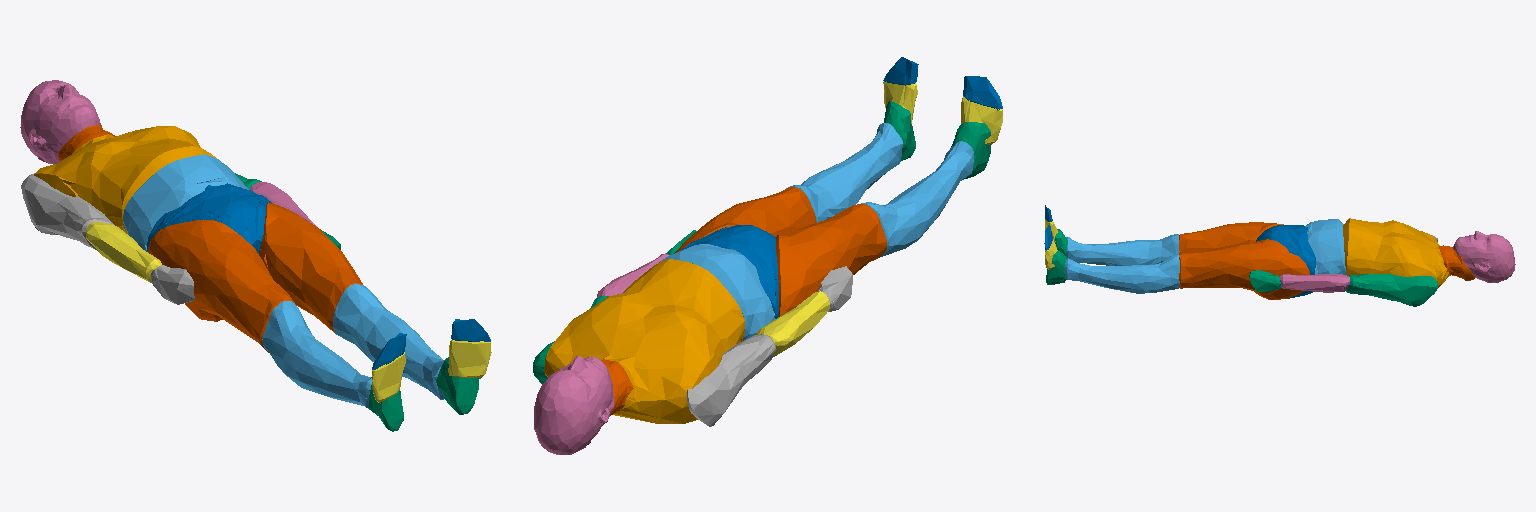
--- What the picture shows (computed from the rendered views, not written in the file) ---
Views: 3 orthographic renders of the robot side by side, from view 1: azimuth 30°, elevation 25°; view 2: azimuth 150°, elevation 25°; view 3: azimuth 270°, elevation 25°.
Model human adult with 45 links and 44 joints (27 revolute, 17 fixed), rooted at chest, posed all joints at 0.
Visible links, largest first — view 1: right_leg, chest, left_leg, right_shin, left_shin, belly, head, pelvis, right_arm, right_forearm, left_sole, left_foot (+7 smaller); view 2: chest, right_leg, head, right_shin, left_shin, right_arm, belly, left_leg, pelvis, right_forearm, right_foot, right_hand (+7 smaller); view 3: chest, left_leg, left_shin, right_shin, head, left_arm, right_leg, belly, pelvis, left_forearm, neck, left_hand.
Boxes of the visible links, bbox=[...] form: right_leg: bbox=[148, 220, 296, 352]; chest: bbox=[34, 126, 218, 234]; left_leg: bbox=[259, 202, 362, 333]; right_shin: bbox=[262, 301, 371, 409]; left_shin: bbox=[333, 283, 445, 399]; belly: bbox=[123, 154, 248, 251]; head: bbox=[20, 80, 100, 163]; pelvis: bbox=[147, 181, 271, 253]; right_arm: bbox=[21, 173, 113, 250]; right_forearm: bbox=[86, 222, 161, 282]; left_sole: bbox=[448, 340, 491, 378]; left_foot: bbox=[436, 357, 479, 414]; chest: bbox=[544, 259, 744, 423]; right_leg: bbox=[776, 204, 887, 316]; head: bbox=[534, 356, 613, 454]; right_shin: bbox=[861, 141, 973, 256]; left_shin: bbox=[786, 123, 902, 222]; right_arm: bbox=[687, 334, 775, 426]; belly: bbox=[660, 244, 774, 340]; left_leg: bbox=[674, 187, 816, 253]; pelvis: bbox=[681, 225, 778, 318]; right_forearm: bbox=[756, 291, 829, 356]; right_foot: bbox=[951, 122, 990, 179]; right_hand: bbox=[817, 266, 852, 311]; chest: bbox=[1343, 218, 1449, 287]; left_leg: bbox=[1179, 239, 1310, 299]; left_shin: bbox=[1064, 254, 1179, 293]; right_shin: bbox=[1066, 234, 1179, 265]; head: bbox=[1453, 231, 1515, 282]; left_arm: bbox=[1346, 274, 1437, 306]; right_leg: bbox=[1179, 222, 1283, 253]; belly: bbox=[1305, 219, 1345, 274]; pelvis: bbox=[1256, 225, 1315, 298]; left_forearm: bbox=[1280, 274, 1349, 292]; neck: bbox=[1439, 245, 1474, 280]; left_hand: bbox=[1249, 270, 1281, 291].
Size in the robot's own frame: 0.4867 by 1.74 by 0.3008 metres.
Meshes: 21 distinct files referenced, 21 mesh visuals loaded (21 OBJ).

robot.urdf — human adult:
<?xml version="1.0"?>

<!-- This implements the reference model from
https://mmm.humanoids.kit.edu/referencemodel.html
with a height of H = 1.75. This model is based on the one from
"Biomechanics and motor control of human movement", David A. Winter

The segment mass data (only mass) is calculated using the table 4.1 from this book for
a total body mass of 68 kg.

This model's additional details (feet), which are implemented here, are given in
Terlemez, Ö., Ulbrich, S., Mandery, C., Do, M., Vahrenkamp, N., & Asfour, T. (2014, November). Master Motor Map (MMM)—Framework and toolkit for capturing, representing, and reproducing human motion on humanoid robots. In 2014 IEEE-RAS International Conference on Humanoid Robots (pp. 894-901). IEEE.

IMPORTANT NOTE: THE INERTIAL PROPERTIES ARE NOT CORRECT (PARTICULARLY THE ORIGINS)
-->

<!-- 
Link to range of motion reference:
https://www.wikem.org/wiki/Range_of_motion_by_joint
via
https://www.physio-pedia.com/Range_of_Motion
-->

<robot name="human adult">

  <link name="chest">
    <inertial>
      <origin rpy = "0 0 0" xyz = "0 0.18375 0" />
      <mass value = "14.688" />
      <inertia ixx = "5.0001" ixy = "0" ixz = "0" iyy = "1.0001" iyz = "0" izz = "5.0001" />
    </inertial>

    <collision>
      <geometry>
        <box size="0.2 0.4 0.1"/>
      </geometry>
      <origin rpy="0 0 0" xyz="0 0.1 0"/>
      <sdf resolution="256"/>
    </collision>
    <visual>
      <geometry>
        <mesh filename="obj/chest.obj" scale="1 1 1"/>
      </geometry>
      <origin rpy="0 0 0" xyz="0 0 0"/>
    </visual>
  </link>

<!-- 
  Downwards from Chest 
  ************************
-->

  <link name="belly">
    <inertial>
      <origin rpy = "0 0 0" xyz = "0 -0.0525 0" />
      <mass value = "9.452" />
      <inertia ixx = "5.0001" ixy = "0" ixz = "0" iyy = "1.0001" iyz = "0" izz = "5.0001" />
    </inertial>
    <visual>
      <geometry>
        <mesh filename="obj/belly.obj" scale="1 1 1"/>
      </geometry>
      <origin rpy="0 0 0" xyz="0 0 0"/>
    </visual>
  </link>

  <link name="bellyY">
    <inertial>
      <origin rpy = "0 0 0" xyz = "0 0 0" />
      <mass value = "0.001" />
      <inertia ixx="0.000001" ixy="0.0" ixz="0.0" iyy="0.000001" iyz="0.0" izz="0.000001"/>
    </inertial>
  </link>
  <link name="bellyZ">
    <inertial>
      <origin rpy = "0 0 0" xyz = "0 0 0" />
      <mass value = "0.001" />
      <inertia ixx="0.000001" ixy="0.0" ixz="0.0" iyy="0.000001" iyz="0.0" izz="0.000001"/>
    </inertial>
  </link>

  <joint name="chest_to_bellyY" type="revolute">
    <parent link="chest"/>
    <child link="bellyY"/>
    <axis xyz="0 1 0"/>
    <limit effort="100.0" lower="-0.52" upper="0.52" velocity="1"/>
    <origin xyz="0 0 0"/>
    <dynamics damping="5.0" friction="10.0"/>
  </joint>

  <joint name="chest_to_bellyZ" type="revolute">
    <parent link="bellyY"/>
    <child link="bellyZ"/>
    <axis xyz="0 0 1"/>
    <limit effort="100.0" lower="-0.44" upper="0.44" velocity="1"/>
    <origin xyz="0 0 0"/>
    <dynamics damping="5.0" friction="10.0"/>
  </joint>

  <joint name="chest_to_belly" type="fixed">
    <parent link="bellyZ"/>
    <child link="belly"/>
  </joint>

  <link name="pelvis">
    <inertial>
      <origin rpy = "0 0 0" xyz = "0 -0.035 0" />
      <mass value = "9.656" />
      <inertia ixx = "5.0001" ixy = "0" ixz = "0" iyy = "1.0001" iyz = "0" izz = "5.0001" />
    </inertial>
    <visual>
      <geometry>
        <mesh filename="obj/pelvis.obj" scale="1 1 1"/>
      </geometry>
      <origin rpy="0 0 0" xyz="0 0 0"/>
    </visual>
    
  </link>

  <joint name="belly_to_pelvis" type="revolute">
    <parent link="belly"/>
    <child link="pelvis"/>
    <axis xyz="1 0 0"/>
    <limit effort="100.0" lower="-0.78" upper="0.44" velocity="1"/>
    <origin xyz="0 -0.105 0"/>
    <dynamics damping="5.0" friction="10.0"/>
  </joint>

  <!--
    Right Leg
    ****
  -->

  <link name="right_leg">
    <inertial>
      <origin rpy = "0 0 0" xyz = "0 -0.214375 0" />
      <mass value = "6.8" />
      <inertia ixx = "5.0001" ixy = "0" ixz = "0" iyy = "1.0001" iyz = "0" izz = "5.0001" />
    </inertial>
    
    <collision>
      <geometry>
        <cylinder length="0.4" radius="0.07"/>
      </geometry>
      <origin rpy="1.57 0 0" xyz="0 -0.2 0"/>
      <sdf resolution="256"/>
    </collision>
    <visual>
      <geometry>
        <mesh filename="obj/leg_right.obj" scale="1 1 1"/>
      </geometry>
      <origin rpy="0 0 0" xyz="0 0 0"/>
    </visual>
  </link>

  <link name="rlegX">
    <inertial>
      <origin rpy = "0 0 0" xyz = "0 0 0" />
      <mass value = "0.001" />
      <inertia ixx="0.000001" ixy="0.0" ixz="0.0" iyy="0.000001" iyz="0.0" izz="0.000001"/>
    </inertial>
  </link>
  <link name="rlegY">
    <inertial>
      <origin rpy = "0 0 0" xyz = "0 0 0" />
      <mass value = "0.001" />
      <inertia ixx="0.000001" ixy="0.0" ixz="0.0" iyy="0.000001" iyz="0.0" izz="0.000001"/>
    </inertial>
  </link>
  <link name="rlegZ">
    <inertial>
      <origin rpy = "0 0 0" xyz = "0 0 0" />
      <mass value = "0.001" />
      <inertia ixx="0.000001" ixy="0.0" ixz="0.0" iyy="0.000001" iyz="0.0" izz="0.000001"/>
    </inertial>
  </link>

  <joint name="pelvis_to_rlegX" type="revolute">
    <parent link="pelvis"/>
    <child link="rlegX"/>
    <axis xyz="1 0 0"/>
    <limit effort="100.0" lower="-1.74" upper="0.52" velocity="1"/>
    <origin xyz="-0.091 -0.07 0"/>
    <dynamics damping="5.0" friction="10.0"/>
  </joint>

  <joint name="pelvis_to_rlegY" type="revolute">
    <parent link="rlegX"/>
    <child link="rlegY"/>
    <axis xyz="0 1 0"/>
    <limit effort="100.0" lower="-0.78" upper="0.78" velocity="1"/>
    <origin xyz="0 0 0"/>
    <dynamics damping="5.0" friction="10.0"/>
  </joint>

  <joint name="pelvis_to_rlegZ" type="revolute">
    <parent link="rlegY"/>
    <child link="rlegZ"/>
    <axis xyz="0 0 1"/>
    <limit effort="100.0" lower="-0.7" upper="0.35" velocity="1"/>
    <origin xyz="0 0 0"/>
    <dynamics damping="5.0" friction="10.0"/>
  </joint>

  <joint name="pelvis_to_right_leg" type="fixed">
    <parent link="rlegZ"/>
    <child link="right_leg"/>
  </joint>

  <link name="right_shin">
    <inertial>
      <origin rpy = "0 0 0" xyz = "0 -0.21525 0" />
      <mass value = "3.162" />
      <inertia ixx = "5.0001" ixy = "0" ixz = "0" iyy = "1.0001" iyz = "0" izz = "5.0001" />
    </inertial>
    
    <collision>
      <geometry>
        <cylinder length="0.4" radius="0.05"/>
      </geometry>
      <origin rpy="1.57 0 0" xyz="0 -0.2 0"/>
      <sdf resolution="256"/>
    </collision>
    <visual>
      <geometry>
        <mesh filename="obj/shin_right.obj" scale="1 1 1"/>
      </geometry>
      <origin rpy="0 0 0" xyz="0 0 0"/>
    </visual>
  </link>

  <joint name="right_leg_to_right_shin" type="revolute">
    <parent link="right_leg"/>
    <child link="right_shin"/>
    <axis xyz="1 0 0"/>
    <limit effort="100.0" lower="0" upper="2.62" velocity="1"/>
    <origin xyz="0 -0.42875 0"/>
    <dynamics damping="5.0" friction="10.0"/>
  </joint>

  <link name="right_foot">
    <inertial>
      <origin rpy = "0 0 0" xyz = "0 -0.034125 0" />
      <mass value = "0.493" />
      <inertia ixx = "5.0001" ixy = "0" ixz = "0" iyy = "1.0001" iyz = "0" izz = "5.0001" />
    </inertial>
    
    <collision>
      <geometry>
        <box size="0.1 0.06 0.25"/>
      </geometry>
      <origin rpy="0 0 0" xyz="0 -0.045 0.075"/>
      <sdf resolution="256"/>
    </collision>
    <visual>
      <geometry>
        <mesh filename="obj/foot_right.obj" scale="1 1 1"/>
      </geometry>
      <origin rpy="0 0 0" xyz="0 0 0"/>
    </visual>
  </link>
  
  <joint name="right_shin_to_right_foot" type="revolute">
    <parent link="right_shin"/>
    <child link="right_foot"/>
    <origin xyz="0 -0.4305 0"/>
    <axis xyz="1 0 0"/>
    <limit effort="100.0" lower="-0.52" upper="0.70" velocity="1"/>
    <dynamics damping="5.0" friction="10.0"/>
  </joint>

  <link name="right_sole">
    <inertial>
      <origin rpy = "0 0 0" xyz = "0 0 0.042" />
      <mass value = "0.32867" />
      <inertia ixx = "5.0001" ixy = "0" ixz = "0" iyy = "5.0001" iyz = "0" izz = "1.0001" />
    </inertial>
    
    <visual>
      <geometry>
        <mesh filename="obj/sole_right.obj" scale="1 1 1"/>
      </geometry>
      <origin rpy="0 0 0" xyz="0 0 0"/>
    </visual>
  </link>

  <joint name="right_foot_to_right_sole" type="fixed">
    <parent link="right_foot"/>
    <child link="right_sole"/>
    <origin xyz="0 -0.06825 0.035"/>
  </joint>

  <link name="right_toes">
    <inertial>
      <origin rpy = "0 0 0" xyz = "0 0 0.02975" />
      <mass value = "0.1643" />
      <inertia ixx = "5.0001" ixy = "0" ixz = "0" iyy = "5.0001" iyz = "0" izz = "1.0001" />
    </inertial>
    
    <visual>
      <geometry>
        <mesh filename="obj/toes_right.obj" scale="1 1 1"/>
      </geometry>
      <origin rpy="0 0 0" xyz="0 0 0"/>
    </visual>
  </link>

  <joint name="right_sole_to_right_toes" type="fixed">
    <parent link="right_sole"/>
    <child link="right_toes"/>
    <origin xyz="0 0 0.084"/>
  </joint>

  <!--
    Left Leg
    ****
  -->

<link name="left_leg">
    <inertial>
      <origin rpy = "0 0 0" xyz = "0 -0.214375 0" />
      <mass value = "6.8" />
      <inertia ixx = "5.0001" ixy = "0" ixz = "0" iyy = "1.0001" iyz = "0" izz = "5.0001" />
    </inertial>
    
    <collision>
      <geometry>
        <cylinder length="0.4" radius="0.07"/>
      </geometry>
      <origin rpy="1.57 0 0" xyz="0 -0.2 0"/>
      <sdf resolution="256"/>
    </collision>
    <visual>
      <geometry>
        <mesh filename="obj/leg_left.obj" scale="1 1 1"/>
      </geometry>
      <origin rpy="0 0 0" xyz="0 0 0"/>
    </visual>
  </link>

  <link name="llegX">
    <inertial>
      <origin rpy = "0 0 0" xyz = "0 0 0" />
      <mass value = "0.001" />
      <inertia ixx="0.000001" ixy="0.0" ixz="0.0" iyy="0.000001" iyz="0.0" izz="0.000001"/>
    </inertial>
  </link>
  <link name="llegY">
    <inertial>
      <origin rpy = "0 0 0" xyz = "0 0 0" />
      <mass value = "0.001" />
      <inertia ixx="0.000001" ixy="0.0" ixz="0.0" iyy="0.000001" iyz="0.0" izz="0.000001"/>
    </inertial>
  </link>
  <link name="llegZ">
    <inertial>
      <origin rpy = "0 0 0" xyz = "0 0 0" />
      <mass value = "0.001" />
      <inertia ixx="0.000001" ixy="0.0" ixz="0.0" iyy="0.000001" iyz="0.0" izz="0.000001"/>
    </inertial>
  </link>

  <joint name="pelvis_to_llegX" type="revolute">
    <parent link="pelvis"/>
    <child link="llegX"/>
    <axis xyz="1 0 0"/>
    <limit effort="100.0" lower="-1.74" upper="0.52" velocity="1"/>
    <origin xyz="0.091 -0.07 0"/>
    <dynamics damping="5.0" friction="10.0"/>
  </joint>

  <joint name="pelvis_to_llegY" type="revolute">
    <parent link="llegX"/>
    <child link="llegY"/>
    <axis xyz="0 1 0"/>
    <limit effort="100.0" lower="-0.78" upper="0.78" velocity="1"/>
    <origin xyz="0 0 0"/>
    <dynamics damping="5.0" friction="10.0"/>
  </joint>

  <joint name="pelvis_to_llegZ" type="revolute">
    <parent link="llegY"/>
    <child link="llegZ"/>
    <axis xyz="0 0 1"/>
    <limit effort="100.0" lower="-0.35" upper="0.7" velocity="1"/>
    <origin xyz="0 0 0"/>
    <dynamics damping="5.0" friction="10.0"/>
  </joint>

  <joint name="pelvis_to_left_leg" type="fixed">
    <parent link="llegZ"/>
    <child link="left_leg"/>
  </joint>

  <link name="left_shin">
    <inertial>
      <origin rpy = "0 0 0" xyz = "0 -0.21525 0" />
      <mass value = "3.162" />
      <inertia ixx = "5.0001" ixy = "0" ixz = "0" iyy = "1.0001" iyz = "0" izz = "5.0001" />
    </inertial>
    
    <collision>
      <geometry>
        <cylinder length="0.4" radius="0.05"/>
      </geometry>
      <origin rpy="1.57 0 0" xyz="0 -0.2 0"/>
      <sdf resolution="256"/>
    </collision>
    <visual>
      <geometry>
        <mesh filename="obj/shin_left.obj" scale="1 1 1"/>
      </geometry>
      <origin rpy="0 0 0" xyz="0 0 0"/>
    </visual>
  </link>

  <joint name="left_leg_to_left_shin" type="revolute">
    <parent link="left_leg"/>
    <child link="left_shin"/>
    <axis xyz="1 0 0"/>
    <limit effort="100.0" lower="0" upper="2.62" velocity="1"/>
    <origin xyz="0 -0.42875 0"/>
    <dynamics damping="5.0" friction="10.0"/>
  </joint>

  <link name="left_foot">
    <inertial>
      <origin rpy = "0 0 0" xyz = "0 -0.034125 0" />
      <mass value = "0.493" />
      <inertia ixx = "5.0001" ixy = "0" ixz = "0" iyy = "1.0001" iyz = "0" izz = "5.0001" />
    </inertial>

    <collision>
      <geometry>
        <box size="0.1 0.06 0.25"/>
      </geometry>
      <origin rpy="0 0 0" xyz="0 -0.045 0.075"/>
      <sdf resolution="256"/>
    </collision>
    <visual>
      <geometry>
        <mesh filename="obj/foot_left.obj" scale="1 1 1"/>
      </geometry>
      <origin rpy="0 0 0" xyz="0 0 0"/>
    </visual>
    
    
  </link>
  
  <joint name="left_shin_to_left_foot" type="revolute">
    <parent link="left_shin"/>
    <child link="left_foot"/>
    <origin xyz="0 -0.4305 0"/>
    <axis xyz="1 0 0"/>
    <limit effort="100.0" lower="-0.52" upper="0.70" velocity="1"/>
    <dynamics damping="5.0" friction="10.0"/>
  </joint>

  <link name="left_sole">
    <inertial>
      <origin rpy = "0 0 0" xyz = "0 0 0.042" />
      <mass value = "0.32867" />
      <inertia ixx = "5.0001" ixy = "0" ixz = "0" iyy = "5.0001" iyz = "0" izz = "1.0001" />
    </inertial>
    
    <visual>
      <geometry>
        <mesh filename="obj/sole_left.obj" scale="1 1 1"/>
      </geometry>
      <origin rpy="0 0 0" xyz="0 0 0"/>
    </visual>
  </link>

  <joint name="left_foot_to_left_sole" type="fixed">
    <parent link="left_foot"/>
    <child link="left_sole"/>
    <origin xyz="0 -0.06825 0.035"/>
  </joint>

  <link name="left_toes">
    <inertial>
      <origin rpy = "0 0 0" xyz = "0 0 0.02975" />
      <mass value = "0.1643" />
      <inertia ixx = "5.0001" ixy = "0" ixz = "0" iyy = "5.0001" iyz = "0" izz = "1.0001" />
    </inertial>
    
    <visual>
      <geometry>
        <mesh filename="obj/toes_left.obj" scale="1 1 1"/>
      </geometry>
      <origin rpy="0 0 0" xyz="0 0 0"/>
    </visual>
  </link>

  <joint name="left_sole_to_left_toes" type="fixed">
    <parent link="left_sole"/>
    <child link="left_toes"/>
    <origin xyz="0 0 0.084"/>
  </joint>

  <!-- 
  Upwards from Chest 
  **********************
  -->

  <link name="neck">
    <inertial>
      <origin rpy = "0 0 0" xyz = "0 0.02625 0" />
      <mass value = "1.50218" />
      <inertia ixx = "5.0001" ixy = "0" ixz = "0" iyy = "1.0001" iyz = "0" izz = "5.0001" />
    </inertial>

    <collision>
      <geometry>
        <cylinder length="0.06" radius="0.08"/>
      </geometry>
      <origin rpy="1.57 0 0" xyz="0 0 0"/>
      <sdf resolution="256"/>
    </collision>
    <visual>
      <geometry>
        <mesh filename="obj/neck.obj" scale="1 1 1"/>
      </geometry>
      <origin rpy="0 0 0" xyz="0 0 0"/>
    </visual>
  </link>

  <joint name="chest_to_neck" type="fixed">
    <parent link="chest"/>
    <child link="neck"/>
    <origin xyz="0 0.3675 0"/>
  </joint>

  <link name="head">
    <inertial>
      <origin rpy = "0 0 0" xyz = "0 0.11375 0" />
      <mass value = "4.005818" />
      <inertia ixx = "5.0001" ixy = "0" ixz = "0" iyy = "1.0001" iyz = "0" izz = "5.0001" />
    </inertial>
    
    <collision>
      <geometry>
        <cylinder length="0.1" radius="0.08"/>
      </geometry>
      <origin rpy="1.57 0 0" xyz="0 0.1 0"/>
      <sdf resolution="256"/>
    </collision>
    <visual>
      <geometry>
        <mesh filename="obj/head.obj" scale="1 1 1"/>
      </geometry>
      <origin rpy="0 0 0" xyz="0 0 0"/>
    </visual>
  </link>

  <joint name="neck_to_head" type="fixed">
    <parent link="neck"/>
    <child link="head"/>
    <origin xyz="0 0.0525 0"/>
    <dynamics damping="5.0" friction="10.0"/>
  </joint>

  <!-- 
  Right Arm 
  **********************
  -->

  <link name="right_arm">
    <inertial>
      <origin rpy = "0 0 0" xyz = "0 -0.1645 0" />
      <mass value = "1.904" />
      <inertia ixx = "5.0001" ixy = "0" ixz = "0" iyy = "1.0001" iyz = "0" izz = "5.0001" />
    </inertial>
    
    <collision>
      <geometry>
        <cylinder length="0.3" radius="0.05"/>
      </geometry>
      <origin rpy="1.57 0 0" xyz="0 -0.125 0"/>
      <sdf resolution="256"/>
    </collision>
    <visual>
      <geometry>
        <mesh filename="obj/arm_right.obj" scale="1 1 1"/>
      </geometry>
      <origin rpy="0 0 0" xyz="0 0 0"/>
    </visual>
  </link>

  <link name="rarmX">
    <inertial>
      <origin rpy = "0 0 0" xyz = "0 0 0" />
      <mass value = "0.001" />
      <inertia ixx="0.000001" ixy="0.0" ixz="0.0" iyy="0.000001" iyz="0.0" izz="0.000001"/>
    </inertial>
  </link>
  <link name="rarmY">
    <inertial>
      <origin rpy = "0 0 0" xyz = "0 0 0" />
      <mass value = "0.001" />
      <inertia ixx="0.000001" ixy="0.0" ixz="0.0" iyy="0.000001" iyz="0.0" izz="0.000001"/>
    </inertial>
  </link>
  <link name="rarmZ">
    <inertial>
      <origin rpy = "0 0 0" xyz = "0 0 0" />
      <mass value = "0.001" />
      <inertia ixx="0.000001" ixy="0.0" ixz="0.0" iyy="0.000001" iyz="0.0" izz="0.000001"/>
    </inertial>
  </link>

  <joint name="chest_to_rarmX" type="revolute">
    <parent link="chest"/>
    <child link="rarmX"/>
    <origin xyz="-0.1925 0.329 0"/>
    <axis xyz="1 0 0"/>
    <limit effort="100.0" lower="-3.14" upper="0.87" velocity="1"/>
    <dynamics damping="5.0" friction="10.0"/>
  </joint>

  <joint name="chest_to_rarmY" type="revolute">
    <parent link="rarmX"/>
    <child link="rarmY"/>
    <origin xyz="0 0 0"/>
    <axis xyz="0 1 0"/>
    <limit effort="100.0" lower="-1.57" upper="1.57" velocity="1"/>
    <dynamics damping="5.0" friction="10.0"/>
  </joint>

  <joint name="chest_to_rarmZ" type="revolute">
    <parent link="rarmY"/>
    <child link="rarmZ"/>
    <origin xyz="0 0 0"/>
    <axis xyz="0 0 1"/>
    <limit effort="100.0" lower="-3.14" upper="0.87" velocity="1"/>
    <dynamics damping="5.0" friction="10.0"/>
  </joint>

  <joint name="chest_to_right_arm" type="fixed">
    <parent link="rarmZ"/>
    <child link="right_arm"/>
    <origin xyz="0 0 0"/>
  </joint>

  <link name="right_forearm">
    <inertial>
      <origin rpy = "0 0 0" xyz = "0 -0.126875 0" />
      <mass value = "1.088" />
      <inertia ixx = "5.0001" ixy = "0" ixz = "0" iyy = "1.0001" iyz = "0" izz = "5.0001" />
    </inertial>
    
    <collision>
      <geometry>
        <cylinder length="0.22" radius="0.04"/>
      </geometry>
      <origin rpy="1.57 0 0" xyz="0 -0.1 0"/>
      <sdf resolution="256"/>
    </collision>
    <visual>
      <geometry>
        <mesh filename="obj/arm_lower_right.obj" scale="1 1 1"/>
      </geometry>
      <origin rpy="0 0 0" xyz="0 0 0"/>
    </visual>
  </link>

  <link name="rfarmX">
    <inertial>
      <origin rpy = "0 0 0" xyz = "0 0 0" />
      <mass value = "0.001" />
      <inertia ixx="0.000001" ixy="0.0" ixz="0.0" iyy="0.000001" iyz="0.0" izz="0.000001"/>
    </inertial>
  </link>
  <link name="rfarmY">
    <inertial>
      <origin rpy = "0 0 0" xyz = "0 0 0" />
      <mass value = "0.001" />
      <inertia ixx="0.000001" ixy="0.0" ixz="0.0" iyy="0.000001" iyz="0.0" izz="0.000001"/>
    </inertial>
  </link>
  <link name="rfarmZ">
    <inertial>
      <origin rpy = "0 0 0" xyz = "0 0 0" />
      <mass value = "0.001" />
      <inertia ixx="0.000001" ixy="0.0" ixz="0.0" iyy="0.000001" iyz="0.0" izz="0.000001"/>
    </inertial>
  </link>

  <joint name="right_arm_to_rfarmX" type="revolute">
    <parent link="right_arm"/>
    <child link="rfarmX"/>
    <axis xyz="1 0 0"/>
    <origin xyz="0 -0.329 0"/>
    <limit effort="100.0" lower="-2.44" upper="0" velocity="1"/>
    <dynamics damping="5.0" friction="10.0"/>
  </joint>

  <joint name="right_arm_to_rfarmY" type="revolute">
    <parent link="rfarmX"/>
    <child link="rfarmY"/>
    <axis xyz="0 1 0"/>
    <origin xyz="0 0 0"/>
    <limit effort="100.0" lower="-1.40" upper="1.40" velocity="1"/>
    <dynamics damping="5.0" friction="10.0"/>
  </joint>
  <joint name="right_arm_to_rfarmZ" type="fixed">
    <parent link="rfarmY"/>
    <child link="rfarmZ"/>
    <origin xyz="0 0 0"/>
  </joint>

  <joint name="right_arm_to_right_forearm" type="fixed">
    <parent link="rfarmZ"/>
    <child link="right_forearm"/>
    <origin xyz="0 0 0"/>
  </joint>

  <link name="right_hand">
    <inertial>
      <origin rpy = "0 0 0" xyz = "0 -0.0945 0" />
      <mass value = "0.408" />
      <inertia ixx = "5.0001" ixy = "0" ixz = "0" iyy = "1.0001" iyz = "0" izz = "5.0001" />
    </inertial>
    
    <collision>
      <geometry>
        <cylinder length="0.1" radius="0.05"/>
      </geometry>
      <origin rpy="1.57 0 0" xyz="0 -0.05 0"/>
      <sdf resolution="256"/>
    </collision>
    <visual>
      <geometry>
        <mesh filename="obj/hand_right.obj" scale="1 1 1"/>
      </geometry>
      <origin rpy="0 0 0" xyz="0 0 0"/>
    </visual>
  </link>

  <link name="rhandX">
    <inertial>
      <origin rpy = "0 0 0" xyz = "0 0 0" />
      <mass value = "0.001" />
      <inertia ixx="0.000001" ixy="0.0" ixz="0.0" iyy="0.000001" iyz="0.0" izz="0.000001"/>
    </inertial>
  </link>
  <link name="rhandY">
    <inertial>
      <origin rpy = "0 0 0" xyz = "0 0 0" />
      <mass value = "0.001" />
      <inertia ixx="0.000001" ixy="0.0" ixz="0.0" iyy="0.000001" iyz="0.0" izz="0.000001"/>
    </inertial>
  </link>

  <joint name="right_forearm_to_rhandX" type="revolute">
    <parent link="right_forearm"/>
    <child link="rhandX"/>
    <axis xyz="1 0 0"/>
    <origin xyz="0 -0.25375 0"/>
    <limit effort="100.0" lower="-1.05" upper="1.05" velocity="1"/>
    <dynamics damping="5.0" friction="10.0"/>
  </joint>

  <joint name="right_forearm_to_rhandY" type="revolute">
    <parent link="rhandX"/>
    <child link="rhandY"/>
    <axis xyz="0 1 0"/>
    <origin xyz="0 0 0"/>
    <limit effort="100.0" lower="-0.35" upper="0.35" velocity="1"/>
    <dynamics damping="5.0" friction="10.0"/>
  </joint>

  <joint name="right_forearm_to_right_hand" type="fixed">
    <parent link="rhandY"/>
    <child link="right_hand"/>
    <origin xyz="0 0 0"/>
  </joint>

  <!-- 
  Left Arm 
  **********************
  -->

  <link name="left_arm">
    <inertial>
      <origin rpy = "0 0 0" xyz = "0 -0.1645 0" />
      <mass value = "1.904" />
      <inertia ixx = "5.0001" ixy = "0" ixz = "0" iyy = "1.0001" iyz = "0" izz = "5.0001" />
    </inertial>
    
    <collision>
      <geometry>
        <cylinder length="0.3" radius="0.05"/>
      </geometry>
      <origin rpy="1.57 0 0" xyz="0 -0.125 0"/>
      <sdf resolution="256"/>
    </collision>
    <visual>
      <geometry>
        <mesh filename="obj/arm_left.obj" scale="1 1 1"/>
      </geometry>
      <origin rpy="0 0 0" xyz="0 0 0"/>
    </visual>
  </link>

  <link name="larmX">
    <inertial>
      <origin rpy = "0 0 0" xyz = "0 0 0" />
      <mass value = "0.001" />
      <inertia ixx="0.000001" ixy="0.0" ixz="0.0" iyy="0.000001" iyz="0.0" izz="0.000001"/>
    </inertial>
  </link>
  <link name="larmY">
    <inertial>
      <origin rpy = "0 0 0" xyz = "0 0 0" />
      <mass value = "0.001" />
      <inertia ixx="0.000001" ixy="0.0" ixz="0.0" iyy="0.000001" iyz="0.0" izz="0.000001"/>
    </inertial>
  </link>
  <link name="larmZ">
    <inertial>
      <origin rpy = "0 0 0" xyz = "0 0 0" />
      <mass value = "0.001" />
      <inertia ixx="0.000001" ixy="0.0" ixz="0.0" iyy="0.000001" iyz="0.0" izz="0.000001"/>
    </inertial>
  </link>

  <joint name="chest_to_larmX" type="revolute">
    <parent link="chest"/>
    <child link="larmX"/>
    <origin xyz="0.1925 0.329 0"/>
    <axis xyz="1 0 0"/>
    <limit effort="100.0" lower="-3.14" upper="0.87" velocity="1"/>
    <dynamics damping="5.0" friction="10.0"/>
  </joint>

  <joint name="chest_to_larmY" type="revolute">
    <parent link="larmX"/>
    <child link="larmY"/>
    <origin xyz="0 0 0"/>
    <axis xyz="0 1 0"/>
    <limit effort="100.0" lower="-1.57" upper="1.57" velocity="1"/>
    <dynamics damping="5.0" friction="10.0"/>
  </joint>

  <joint name="chest_to_larmZ" type="revolute">
    <parent link="larmY"/>
    <child link="larmZ"/>
    <origin xyz="0 0 0"/>
    <axis xyz="0 0 1"/>
    <limit effort="100.0" lower="-0.87" upper="3.14" velocity="1"/>
    <dynamics damping="5.0" friction="10.0"/>
  </joint>

  <joint name="chest_to_left_arm" type="fixed">
    <parent link="larmZ"/>
    <child link="left_arm"/>
    <origin xyz="0 0 0"/>
  </joint>

  <link name="left_forearm">
    <inertial>
      <origin rpy = "0 0 0" xyz = "0 -0.126875 0" />
      <mass value = "1.088" />
      <inertia ixx = "5.0001" ixy = "0" ixz = "0" iyy = "1.0001" iyz = "0" izz = "5.0001" />
    </inertial>
    
    <collision>
      <geometry>
        <cylinder length="0.22" radius="0.04"/>
      </geometry>
      <origin rpy="1.57 0 0" xyz="0 -0.1 0"/>
      <sdf resolution="256"/>
    </collision>
    <visual>
      <geometry>
        <mesh filename="obj/arm_lower_left.obj" scale="1 1 1"/>
      </geometry>
      <origin rpy="0 0 0" xyz="0 0 0"/>
    </visual>
  </link>

  <link name="lfarmX">
    <inertial>
      <origin rpy = "0 0 0" xyz = "0 0 0" />
      <mass value = "0.001" />
      <inertia ixx="0.000001" ixy="0.0" ixz="0.0" iyy="0.000001" iyz="0.0" izz="0.000001"/>
    </inertial>
  </link>
  <link name="lfarmY">
    <inertial>
      <origin rpy = "0 0 0" xyz = "0 0 0" />
      <mass value = "0.001" />
      <inertia ixx="0.000001" ixy="0.0" ixz="0.0" iyy="0.000001" iyz="0.0" izz="0.000001"/>
    </inertial>
  </link>
  <link name="lfarmZ">
    <inertial>
      <origin rpy = "0 0 0" xyz = "0 0 0" />
      <mass value = "0.001" />
      <inertia ixx="0.000001" ixy="0.0" ixz="0.0" iyy="0.000001" iyz="0.0" izz="0.000001"/>
    </inertial>
  </link>

  <joint name="left_arm_to_lfarmX" type="revolute">
    <parent link="left_arm"/>
    <child link="lfarmX"/>
    <axis xyz="1 0 0"/>
    <origin xyz="0 -0.329 0"/>
    <limit effort="100.0" lower="-2.44" upper="0" velocity="1"/>
    <dynamics damping="5.0" friction="10.0"/>
  </joint>

  <joint name="left_arm_to_lfarmY" type="revolute">
    <parent link="lfarmX"/>
    <child link="lfarmY"/>
    <axis xyz="0 1 0"/>
    <origin xyz="0 0 0"/>
    <limit effort="100.0" lower="-1.40" upper="1.40" velocity="1"/>
    <dynamics damping="5.0" friction="10.0"/>
  </joint>

  <joint name="left_arm_to_lfarmZ" type="fixed">
    <parent link="lfarmY"/>
    <child link="lfarmZ"/>
    <axis xyz="0 1 0"/>
    <origin xyz="0 0 0"/>
    <limit effort="100.0" lower="-1.40" upper="1.40" velocity="1"/>
    <dynamics damping="5.0" friction="10.0"/>
  </joint>

  <joint name="left_arm_to_left_forearm" type="fixed">
    <parent link="lfarmZ"/>
    <child link="left_forearm"/>
    <origin xyz="0 0 0"/>
  </joint>

  <link name="left_hand">
    <inertial>
      <origin rpy = "0 0 0" xyz = "0 -0.0945 0" />
      <mass value = "0.408" />
      <inertia ixx = "5.0001" ixy = "0" ixz = "0" iyy = "1.0001" iyz = "0" izz = "5.0001" />
    </inertial>
    
    <collision>
      <geometry>
        <cylinder length="0.1" radius="0.05"/>
      </geometry>
      <origin rpy="1.57 0 0" xyz="0 -0.05 0"/>
      <sdf resolution="256"/>
    </collision>
    <visual>
      <geometry>
        <mesh filename="obj/hand_left.obj" scale="1 1 1"/>
      </geometry>
      <origin rpy="0 0 0" xyz="0 0 0"/>
    </visual>
  </link>

  <link name="lhandX">
    <inertial>
      <origin rpy = "0 0 0" xyz = "0 0 0" />
      <mass value = "0.001" />
      <inertia ixx="0.000001" ixy="0.0" ixz="0.0" iyy="0.000001" iyz="0.0" izz="0.000001"/>
    </inertial>
  </link>
  <link name="lhandY">
    <inertial>
      <origin rpy = "0 0 0" xyz = "0 0 0" />
      <mass value = "0.001" />
      <inertia ixx="0.000001" ixy="0.0" ixz="0.0" iyy="0.000001" iyz="0.0" izz="0.000001"/>
    </inertial>
  </link>

  <joint name="left_forearm_to_lhandX" type="revolute">
    <parent link="left_forearm"/>
    <child link="lhandX"/>
    <axis xyz="1 0 0"/>
    <origin xyz="0 -0.25375 0"/>
    <limit effort="100.0" lower="-1.05" upper="1.05" velocity="1"/>
    <dynamics damping="5.0" friction="10.0"/>
  </joint>

  <joint name="left_forearm_to_lhandY" type="revolute">
    <parent link="lhandX"/>
    <child link="lhandY"/>
    <axis xyz="0 1 0"/>
    <origin xyz="0 0 0"/>
    <limit effort="100.0" lower="-0.35" upper="0.35" velocity="1"/>
    <dynamics damping="5.0" friction="10.0"/>
  </joint>

  <joint name="left_forearm_to_left_hand" type="fixed">
    <parent link="lhandY"/>
    <child link="left_hand"/>
    <origin xyz="0 0 0"/>
  </joint>

</robot>
